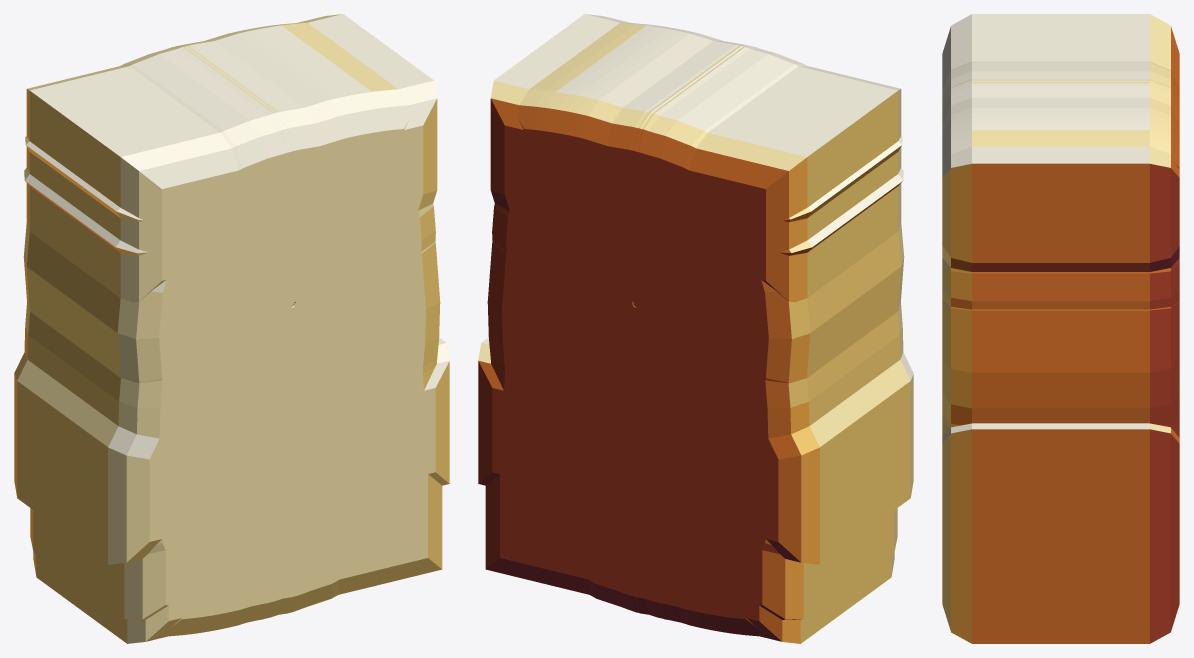
The model's file is digitos-3d.fbx.
3 renders of one model, left to right at view 1: azimuth 30°, elevation 25°; view 2: azimuth 150°, elevation 25°; view 3: azimuth 270°, elevation 25°, orthographic. The views are drawn at different scales.
Parts seen in each view (by area): view 1: Digito0, Digito7, Digito6, Digito2, Digito3, Digito1, Digito4, Digito9, Digito5, Digito8; view 2: Digito4, Digito6, Digito7, Digito0, Digito2, Digito3, Digito9, Digito5, Digito1, Digito8; view 3: Digito7, Digito4, Digito2, Digito9, Digito6, Digito5, Digito3, Digito1, Digito0.
Part boxes in pixels (x1=…): Digito0: x1=161, y1=45, x2=436, y2=613; Digito7: x1=26, y1=14, x2=437, y2=615; Digito6: x1=24, y1=22, x2=434, y2=612; Digito2: x1=24, y1=41, x2=442, y2=643; Digito3: x1=25, y1=45, x2=426, y2=622; Digito1: x1=189, y1=17, x2=421, y2=594; Digito4: x1=14, y1=27, x2=449, y2=588; Digito9: x1=23, y1=46, x2=440, y2=636; Digito5: x1=53, y1=22, x2=416, y2=620; Digito8: x1=148, y1=132, x2=425, y2=614; Digito4: x1=478, y1=63, x2=913, y2=590; Digito6: x1=493, y1=22, x2=903, y2=612; Digito7: x1=490, y1=14, x2=901, y2=615; Digito0: x1=491, y1=45, x2=765, y2=613; Digito2: x1=485, y1=41, x2=903, y2=643; Digito3: x1=509, y1=45, x2=902, y2=622; Digito9: x1=487, y1=46, x2=904, y2=636; Digito5: x1=513, y1=29, x2=874, y2=620; Digito1: x1=506, y1=17, x2=736, y2=594; Digito8: x1=505, y1=132, x2=779, y2=614; Digito7: x1=942, y1=14, x2=1179, y2=271; Digito4: x1=942, y1=148, x2=1179, y2=565; Digito2: x1=942, y1=84, x2=1179, y2=643; Digito9: x1=942, y1=79, x2=1179, y2=425; Digito6: x1=942, y1=97, x2=1179, y2=437; Digito5: x1=942, y1=26, x2=1179, y2=149; Digito3: x1=942, y1=61, x2=1179, y2=110; Digito1: x1=942, y1=146, x2=1179, y2=170; Digito0: x1=942, y1=82, x2=1179, y2=427.
Bounding box in the file's own units: 0.707 × 1 × 0.4383.
Materials: 1 (1 with a texture image).
